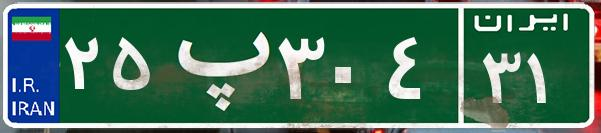0: (330, 28, 385, 110)
1: (525, 38, 570, 115)
2: (57, 26, 110, 107)
3: (273, 28, 330, 110), (475, 38, 525, 113)
4: (385, 28, 445, 110)
5: (110, 28, 158, 105)
پ: (158, 15, 273, 115)
